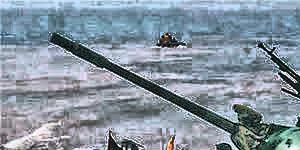tanks: (51, 36, 300, 150), (260, 44, 300, 101), (108, 133, 142, 150)
